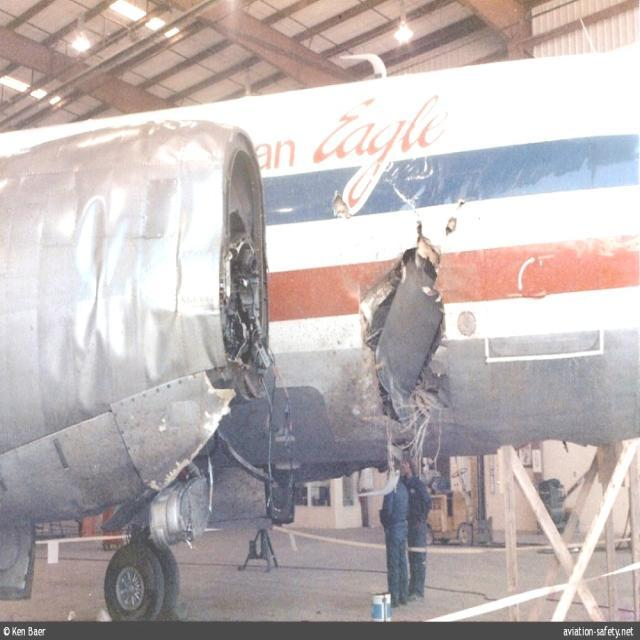dent: (44, 186, 199, 427)
